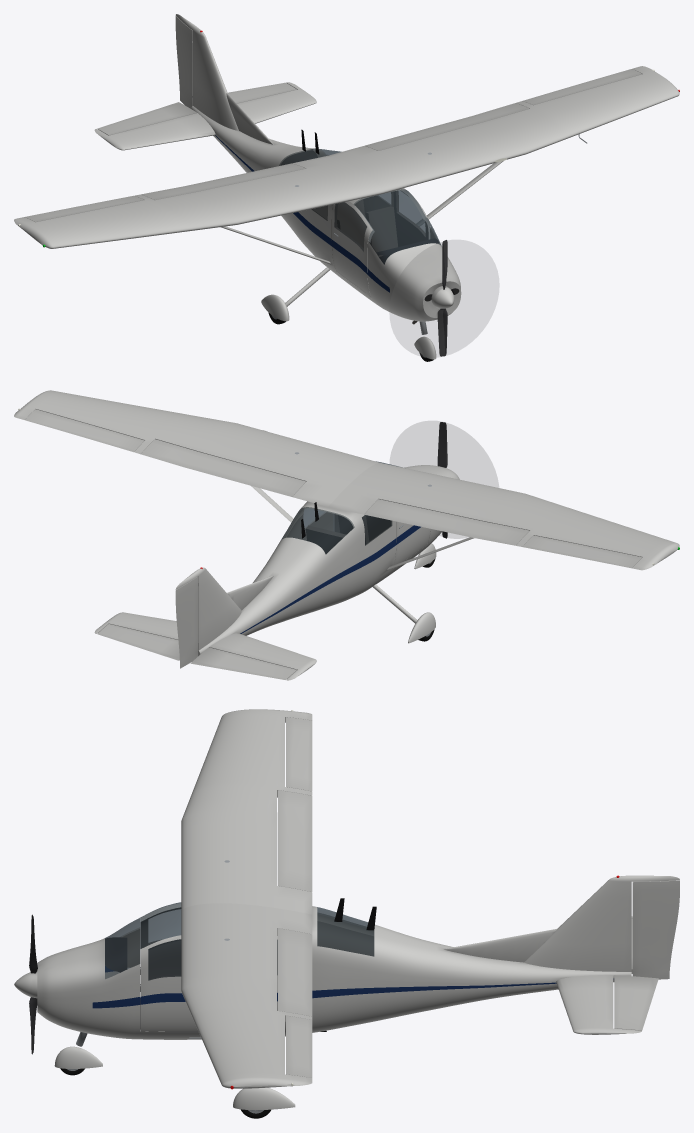
File: cessna.glb
The picture shows the model from 3 angles, top to bottom: view 1: azimuth 30°, elevation 25°; view 2: azimuth 150°, elevation 25°; view 3: azimuth 270°, elevation 25°; orthographic projection. The views are drawn at different scales.
Visible parts, largest first — view 1: fuselage, wing_l, wing_r, prop_disc, cockpit, door_r, elevator, door_l, flap_l, flap_r, gear, rudder (+3 smaller); view 2: fuselage, wing_l, wing_r, prop_disc, flap_l, elevator, flap_r, cockpit, rudder, aileron_l, aileron_r, gear (+2 smaller); view 3: fuselage, wing_r, wing_l, rudder, door_l, flap_r, cockpit, flap_l, door_r, gear, elevator, aileron_r (+2 smaller).
Boxes of the visible parts, left/top/right/bottom form: fuselage: left=94, top=14, right=503, bottom=324; wing_l: left=329, top=66, right=679, bottom=193; wing_r: left=14, top=155, right=382, bottom=248; prop_disc: left=390, top=240, right=498, bottom=357; cockpit: left=279, top=149, right=438, bottom=264; door_r: left=332, top=201, right=374, bottom=297; elevator: left=97, top=82, right=296, bottom=135; door_l: left=393, top=189, right=430, bottom=246; flap_l: left=364, top=103, right=529, bottom=150; flap_r: left=141, top=163, right=305, bottom=200; gear: left=261, top=267, right=436, bottom=361; rudder: left=175, top=16, right=192, bottom=108; fuselage: left=94, top=461, right=474, bottom=680; wing_l: left=14, top=390, right=380, bottom=506; wing_r: left=328, top=463, right=679, bottom=570; prop_disc: left=390, top=421, right=498, bottom=538; flap_l: left=141, top=439, right=306, bottom=496; elevator: left=97, top=624, right=296, bottom=679; flap_r: left=364, top=499, right=529, bottom=545; cockpit: left=284, top=507, right=430, bottom=554; rudder: left=175, top=576, right=198, bottom=668; aileron_l: left=25, top=409, right=144, bottom=452; aileron_r: left=523, top=535, right=642, bottom=568; gear: left=373, top=543, right=436, bottom=643; fuselage: left=37, top=875, right=679, bottom=1039; wing_r: left=181, top=709, right=312, bottom=914; wing_l: left=181, top=903, right=312, bottom=1089; rudder: left=632, top=880, right=679, bottom=979; door_l: left=140, top=935, right=197, bottom=1031; flap_r: left=278, top=790, right=312, bottom=891; cockpit: left=105, top=914, right=374, bottom=1029; flap_l: left=278, top=928, right=312, bottom=1016; door_r: left=140, top=903, right=181, bottom=979; gear: left=54, top=1032, right=295, bottom=1118; elevator: left=614, top=918, right=658, bottom=1030; aileron_r: left=286, top=717, right=312, bottom=791.
Bounding box in the file's own units: 11.01 × 2.72 × 8.28.
